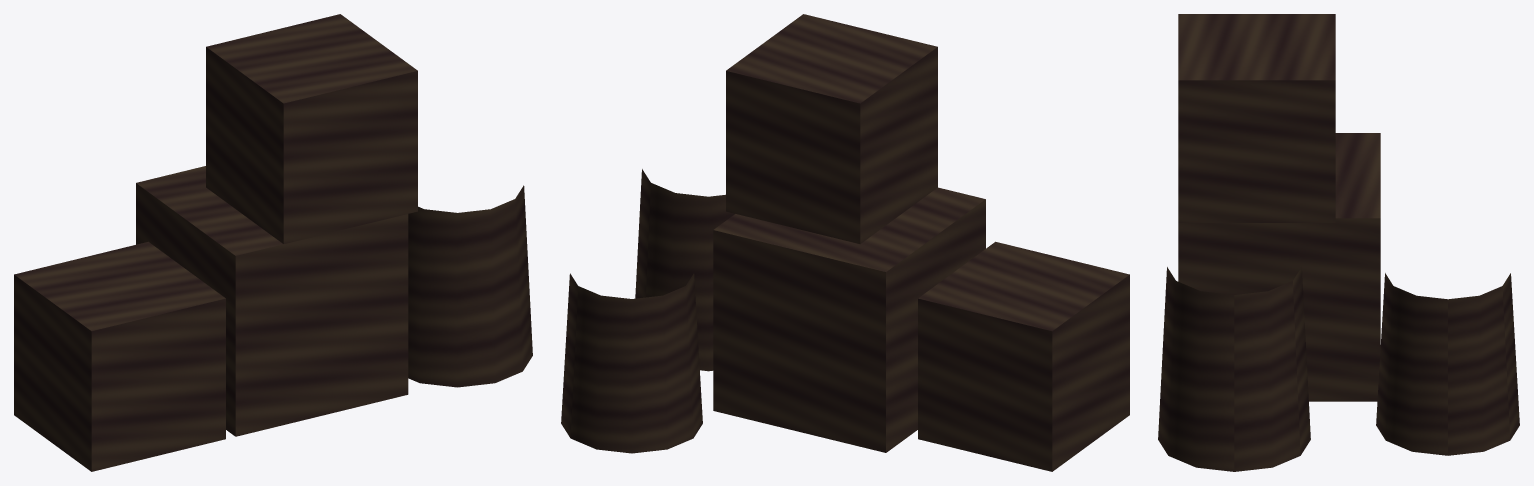
The model's file is wood_crate_barrel.glb.
The picture shows the model from 3 angles, left to right: view 1: azimuth 30°, elevation 25°; view 2: azimuth 150°, elevation 25°; view 3: azimuth 270°, elevation 25°; orthographic projection.
Parts seen in each view (by area): view 1: wood_crate_barrel; view 2: wood_crate_barrel; view 3: wood_crate_barrel.
Boxes of the visible parts, x1,y1,x2,y2 form: wood_crate_barrel: [14, 14, 532, 471]; wood_crate_barrel: [561, 14, 1129, 471]; wood_crate_barrel: [1158, 14, 1519, 471].
Bounding box in the file's own units: 2.39 × 1.6 × 1.61.
1 material, 1 textured.
